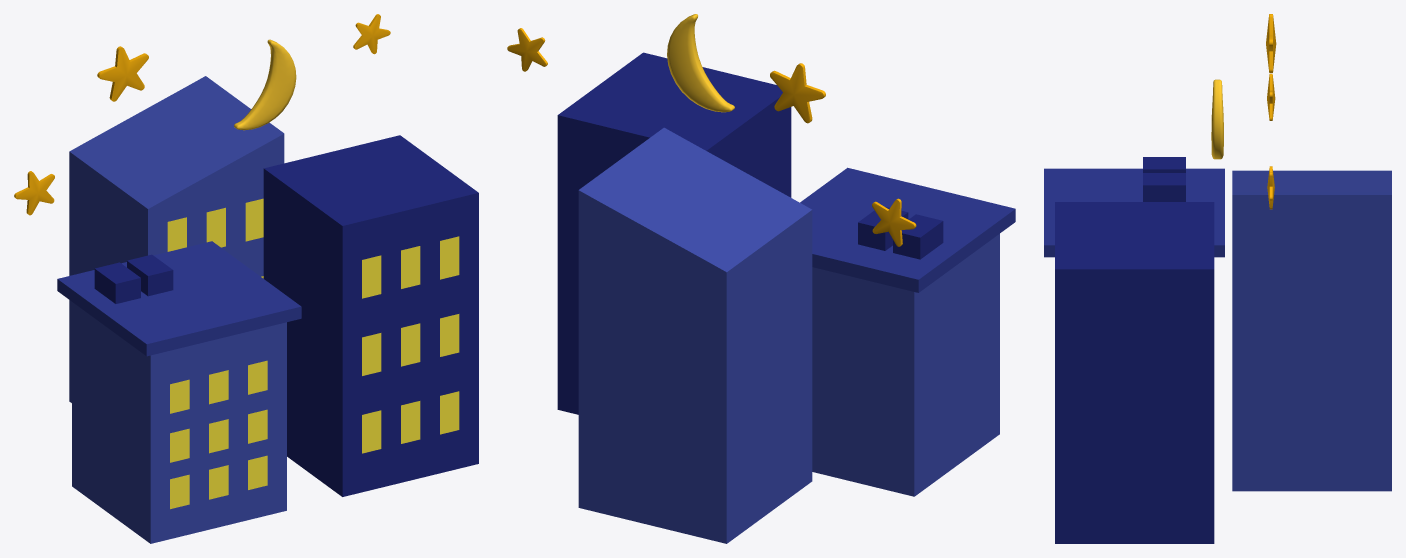
Rendered from night_with_stars.gltf.
3 views of the same model, side by side, from view 1: azimuth 30°, elevation 25°; view 2: azimuth 150°, elevation 25°; view 3: azimuth 270°, elevation 25° (orthographic). The views are drawn at different scales.
Visible parts, largest first — view 1: Cube.512, Cube.513, Cube.518, Circle.2363, Circle.2362, Circle.2364, Circle.2365; view 2: Cube.518, Cube.513, Cube.512, Circle.2363, Circle.2362, Circle.2364, Circle.2365; view 3: Cube.512, Cube.518, Cube.513, Circle.2363, Circle.2362.
Part boxes in pixels (bbox=[...]): Cube.512: bbox=[263, 135, 478, 496]; Cube.513: bbox=[57, 241, 301, 543]; Cube.518: bbox=[69, 76, 284, 402]; Circle.2363: bbox=[234, 39, 296, 130]; Circle.2362: bbox=[97, 46, 148, 101]; Circle.2364: bbox=[14, 171, 54, 215]; Circle.2365: bbox=[353, 14, 390, 54]; Cube.518: bbox=[578, 127, 812, 543]; Cube.513: bbox=[800, 167, 1015, 496]; Cube.512: bbox=[557, 52, 791, 414]; Circle.2363: bbox=[667, 14, 734, 112]; Circle.2362: bbox=[770, 63, 825, 123]; Circle.2364: bbox=[872, 198, 916, 246]; Circle.2365: bbox=[507, 28, 547, 71]; Cube.512: bbox=[1055, 202, 1214, 543]; Cube.518: bbox=[1232, 170, 1391, 491]; Cube.513: bbox=[1044, 157, 1224, 257]; Circle.2363: bbox=[1211, 79, 1223, 159]; Circle.2362: bbox=[1266, 14, 1276, 72].
Size of the model in its own units: 2.2 by 2.24 by 1.74.
1 material, 1 textured.
